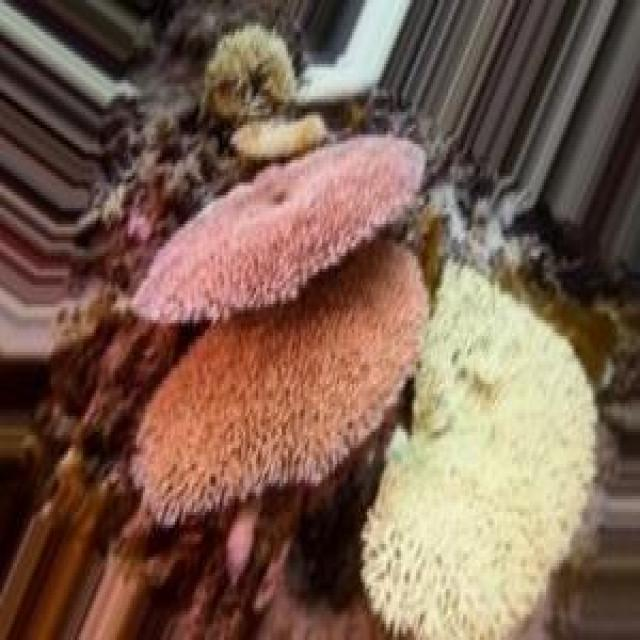Bleached: (362, 260, 600, 640)
Healthy: (138, 238, 432, 529), (135, 135, 430, 327)
